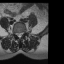CCS_normal: (18, 31, 20, 39)
LFS_normal: (22, 29, 24, 36)
LLS_normal: (20, 30, 22, 38)
RFS_normal: (14, 29, 16, 36)
RLS_normal: (16, 30, 18, 38)
